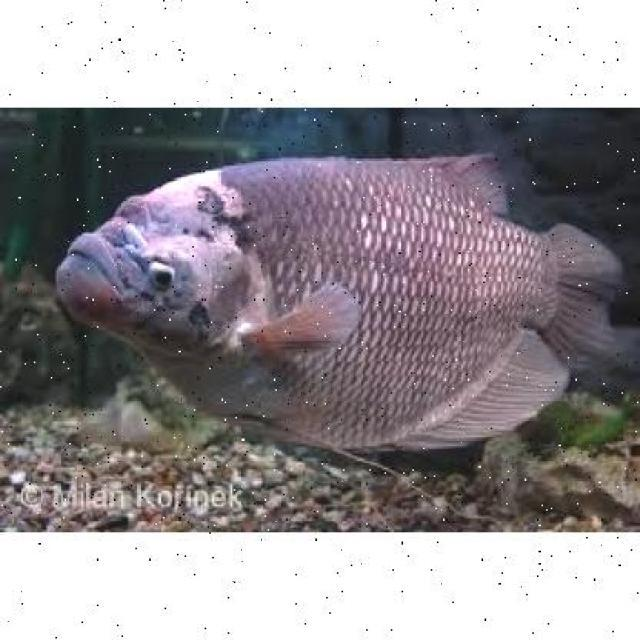gurame: (58, 150, 600, 450)
